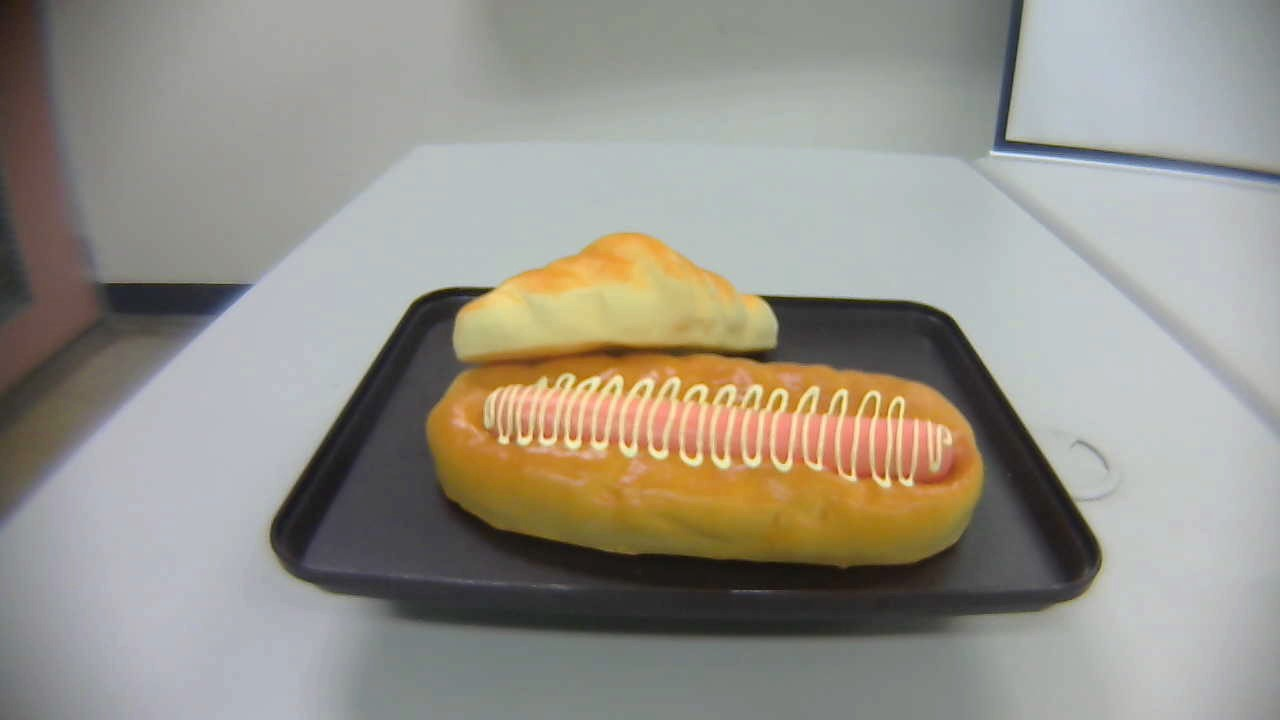croissant: (454, 230, 781, 356)
hot dog: (427, 357, 984, 568)
